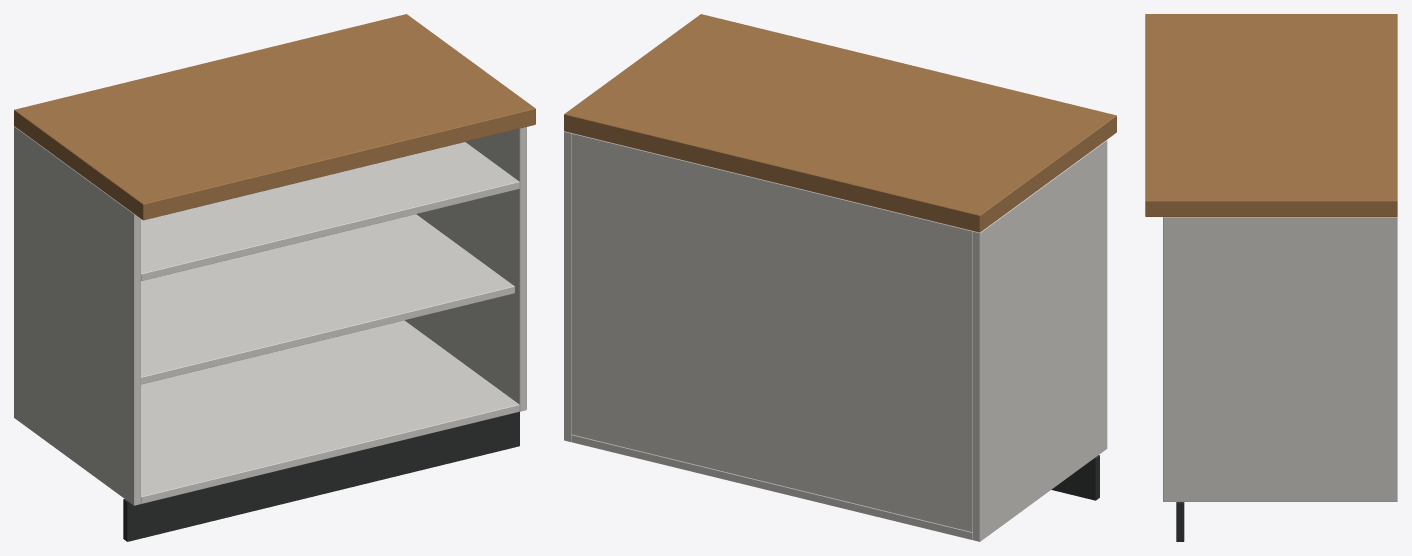
Rendered from base_cabinet_two_doors_drawer_body.glb.
3 views of the same model, side by side, from view 1: azimuth 30°, elevation 25°; view 2: azimuth 150°, elevation 25°; view 3: azimuth 270°, elevation 25° (orthographic). The views are drawn at different scales.
Parts seen in each view (by area): view 1: base_cabinet_two_doors_drawer_body; view 2: base_cabinet_two_doors_drawer_body; view 3: base_cabinet_two_doors_drawer_body.
Part boxes in pixels (x1,y1,x2,y2): base_cabinet_two_doors_drawer_body: [14, 14, 535, 541]; base_cabinet_two_doors_drawer_body: [564, 14, 1116, 541]; base_cabinet_two_doors_drawer_body: [1145, 14, 1397, 541].
Size of the model in its own units: 1 by 0.85 by 0.57.
